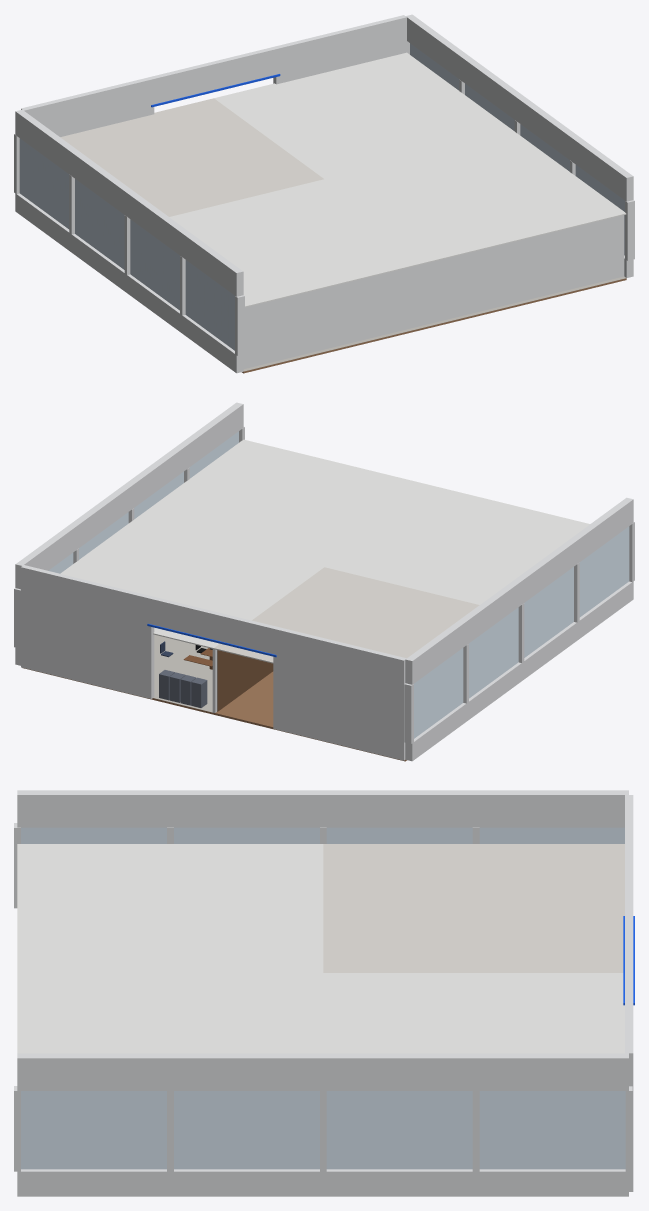
Rendered from school.glb.
The picture shows the model from 3 angles, top to bottom: view 1: azimuth 30°, elevation 25°; view 2: azimuth 150°, elevation 25°; view 3: azimuth 270°, elevation 25°; orthographic projection. The views are drawn at different scales.
Parts seen in each view (by area): view 1: school_static, school_glass; view 2: school_static, school_glass; view 3: school_static, school_glass.
Part boxes in pixels (<box>): school_static: <box>14,14,634,373</box>; school_glass: <box>19,43,624,350</box>; school_static: <box>14,402,634,761</box>; school_glass: <box>48,431,629,738</box>; school_static: <box>14,790,634,1196</box>; school_glass: <box>21,827,625,1169</box>.
Size of the model in its own units: 22.82 by 5.6 by 22.34.
